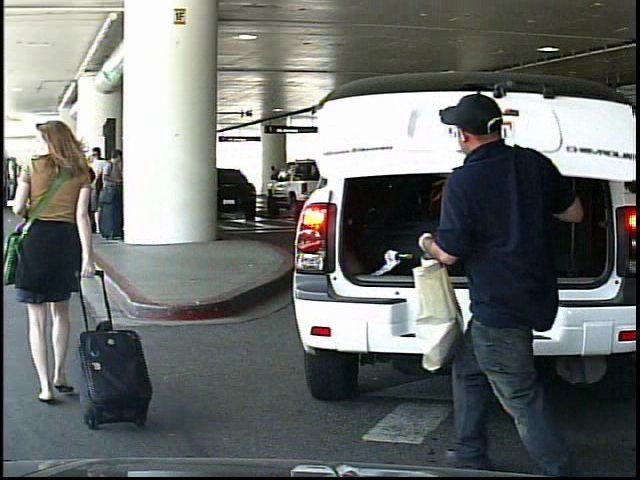person: (408, 88, 590, 475), (3, 119, 117, 429), (267, 163, 283, 202)
